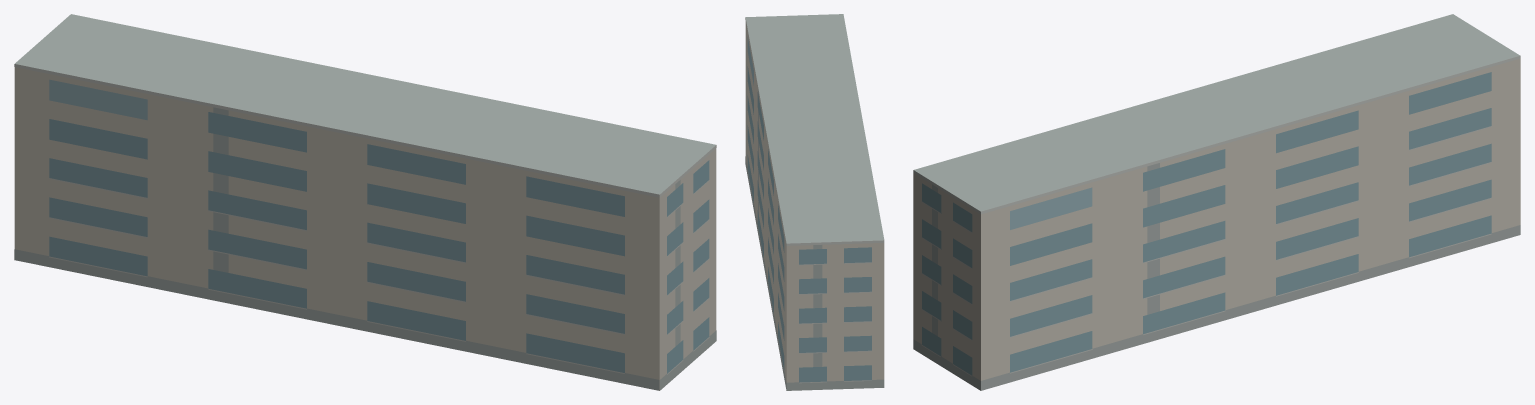
File: residential-6d4c744c-84b8-4619-951a-f9f705461800.glb
3 renders of one model, left to right at view 1: azimuth 30°, elevation 25°; view 2: azimuth 150°, elevation 25°; view 3: azimuth 270°, elevation 25°, orthographic. The views are drawn at different scales.
Parts seen in each view (by area): view 1: residential-6d4c744c-84b8-4619-951a-f9f705461800.tmp; view 2: residential-6d4c744c-84b8-4619-951a-f9f705461800.tmp; view 3: residential-6d4c744c-84b8-4619-951a-f9f705461800.tmp.
Part boxes in pixels (x1=…): residential-6d4c744c-84b8-4619-951a-f9f705461800.tmp: x1=14, y1=14, x2=716, y2=390; residential-6d4c744c-84b8-4619-951a-f9f705461800.tmp: x1=745, y1=14, x2=884, y2=390; residential-6d4c744c-84b8-4619-951a-f9f705461800.tmp: x1=913, y1=14, x2=1520, y2=390.
Bounding box in the file's own units: 36.07 × 15.25 × 46.81.
